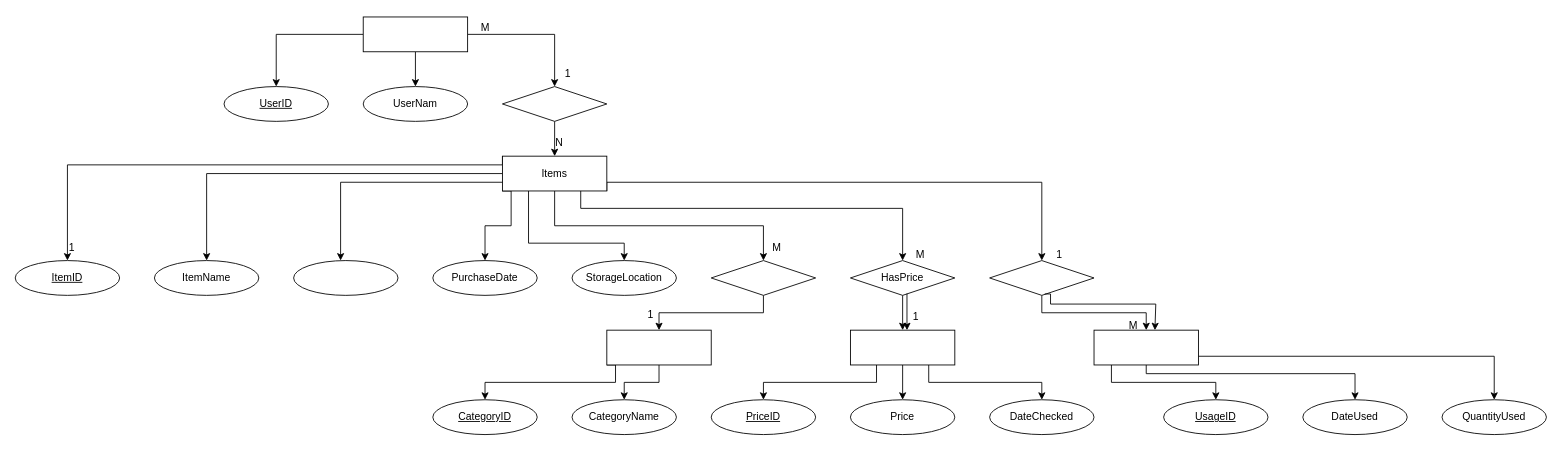
Image size: 1562x450. Some labels were removed from this diagram. The centre of each missing label's shape, as x and y in pixels:
"BelongsTo" goes at (x=763, y=277).
"Category" goes at (x=658, y=347).
"Owns" goes at (x=554, y=103).
"PriceHistory" goes at (x=902, y=347).
"Quantity" goes at (x=345, y=277).
"Tracks" goes at (x=1041, y=277).
"Usage" goes at (x=1145, y=347).
"USER" goes at (x=415, y=34).
